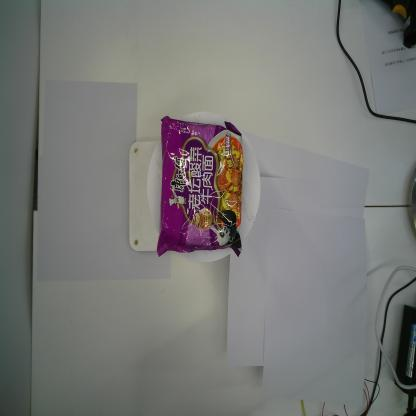Instant Noodles: (156, 115, 244, 259)
